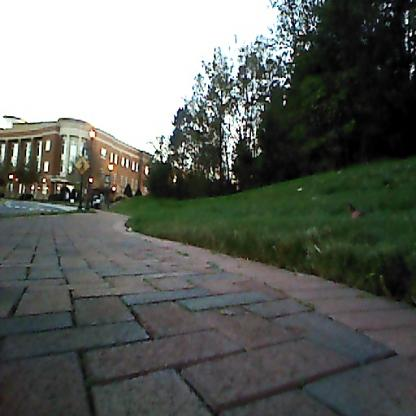Edge: (151, 219, 415, 326)
Sidewalk: (0, 212, 416, 416)
